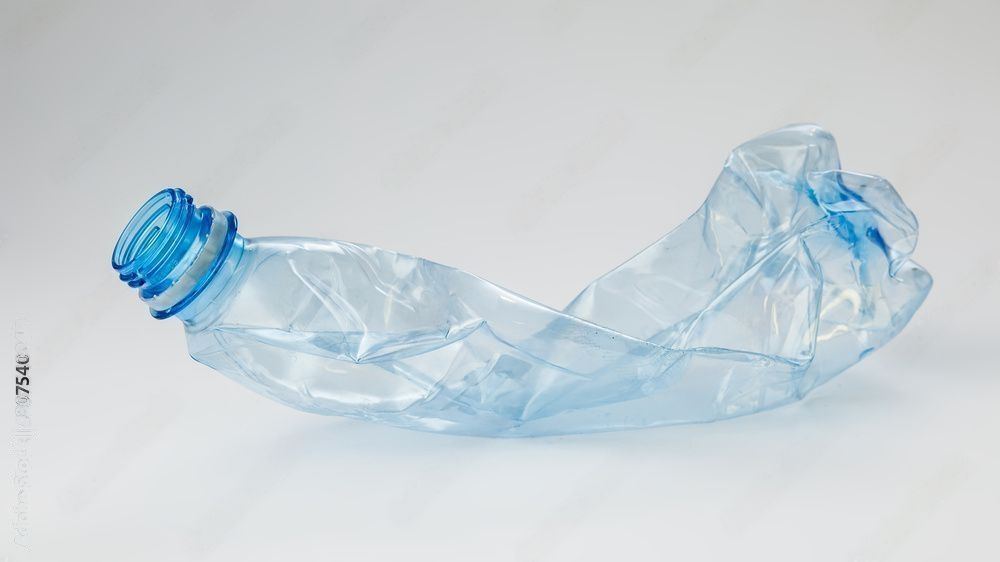plastic_bottle: (112, 119, 933, 438)
